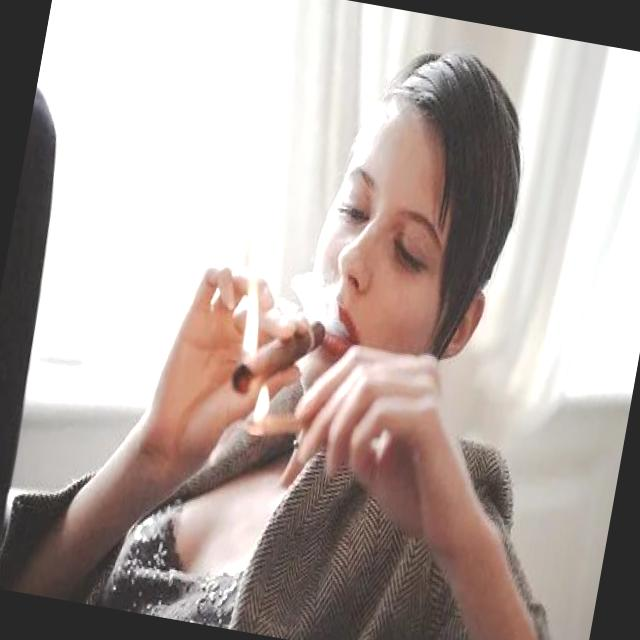cigarette: (223, 297, 329, 423)
